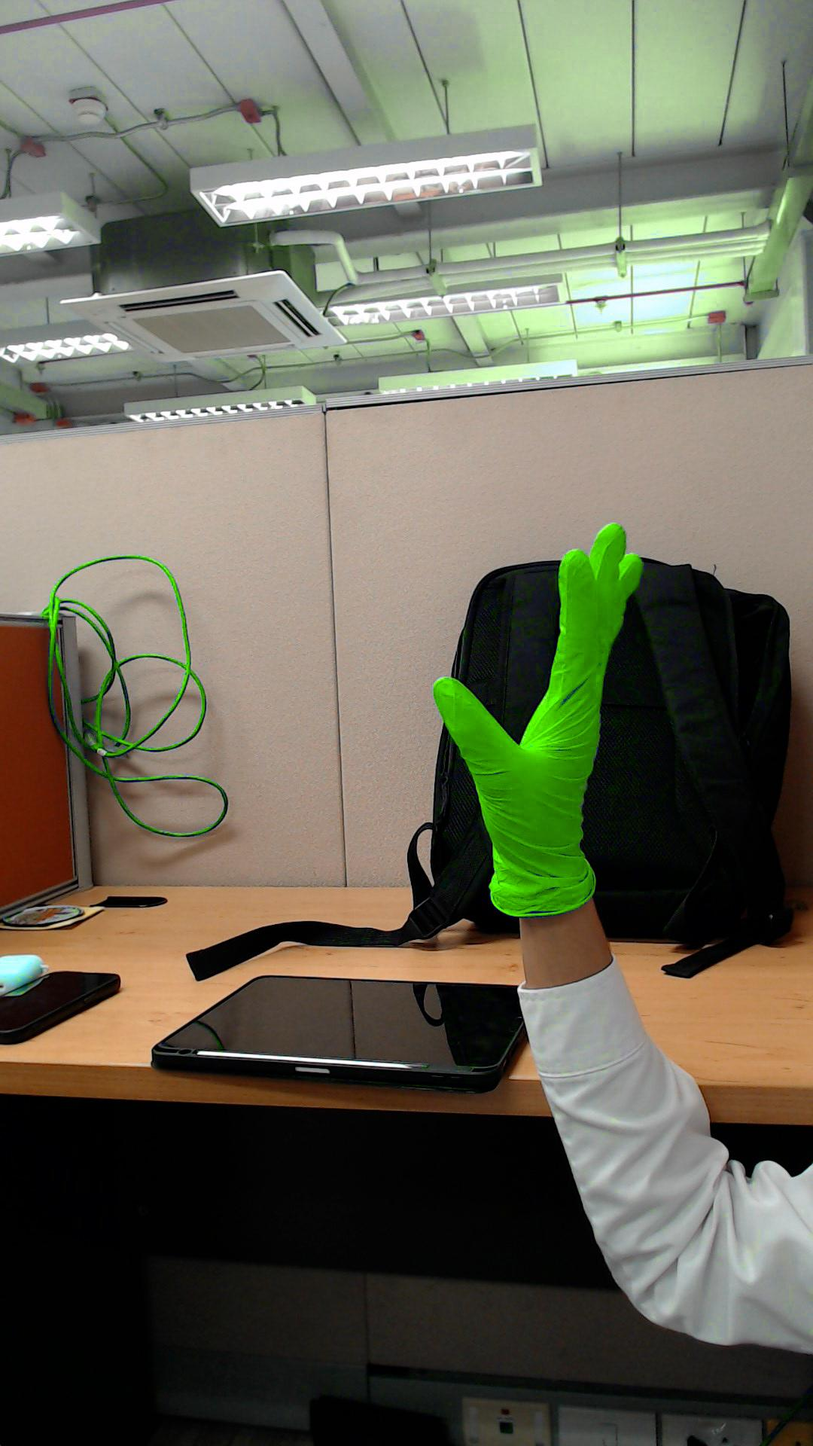gloves: (415, 508, 656, 859)
